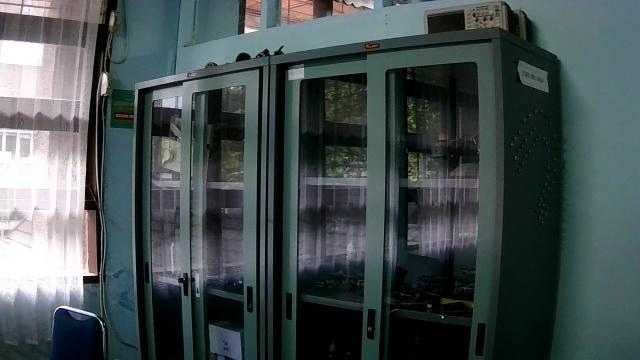Lemari: (265, 26, 505, 359), (131, 53, 269, 359)
